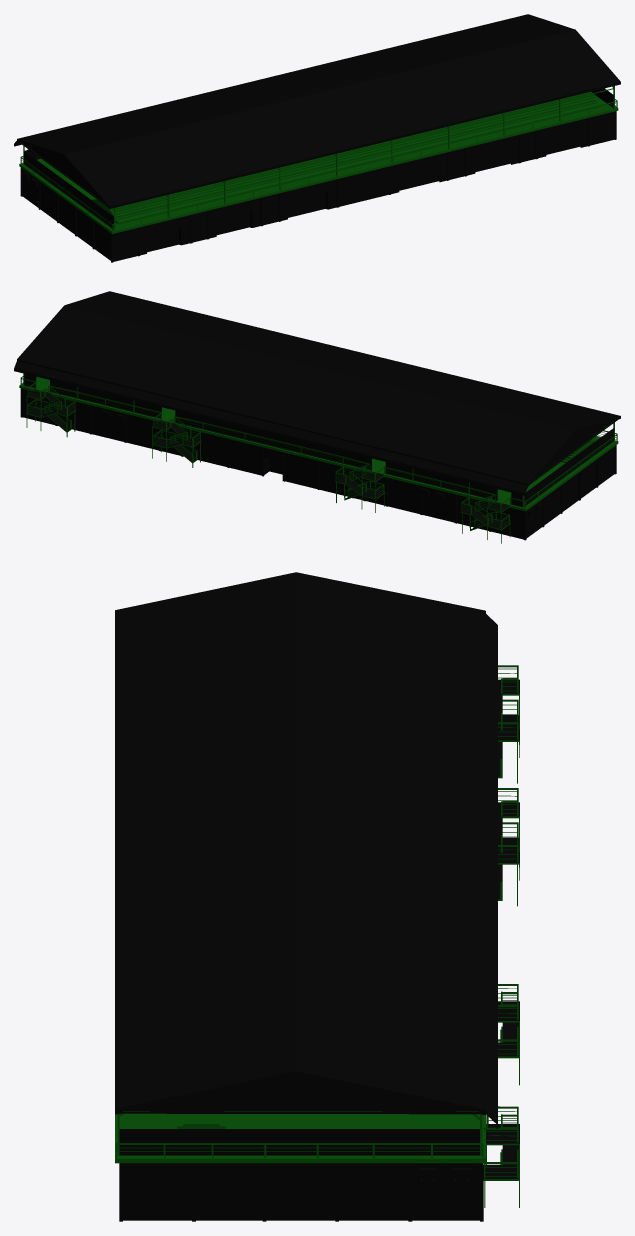
The model's file is T2_MainGrandstand02.fbx.
3 views of the same model, one above another, from view 1: azimuth 30°, elevation 25°; view 2: azimuth 150°, elevation 25°; view 3: azimuth 270°, elevation 25° (orthographic). The views are drawn at different scales.
Visible parts, largest first — view 1: T2_MainGrandstand02_Base; view 2: T2_MainGrandstand02_Base; view 3: T2_MainGrandstand02_Base.
Part boxes in pixels (x1,y1,x2,y2): T2_MainGrandstand02_Base: (14,14,620,262); T2_MainGrandstand02_Base: (14,291,620,543); T2_MainGrandstand02_Base: (115,572,519,1221).
Bounding box in the file's own units: 45.73 × 6.6 × 15.68.
